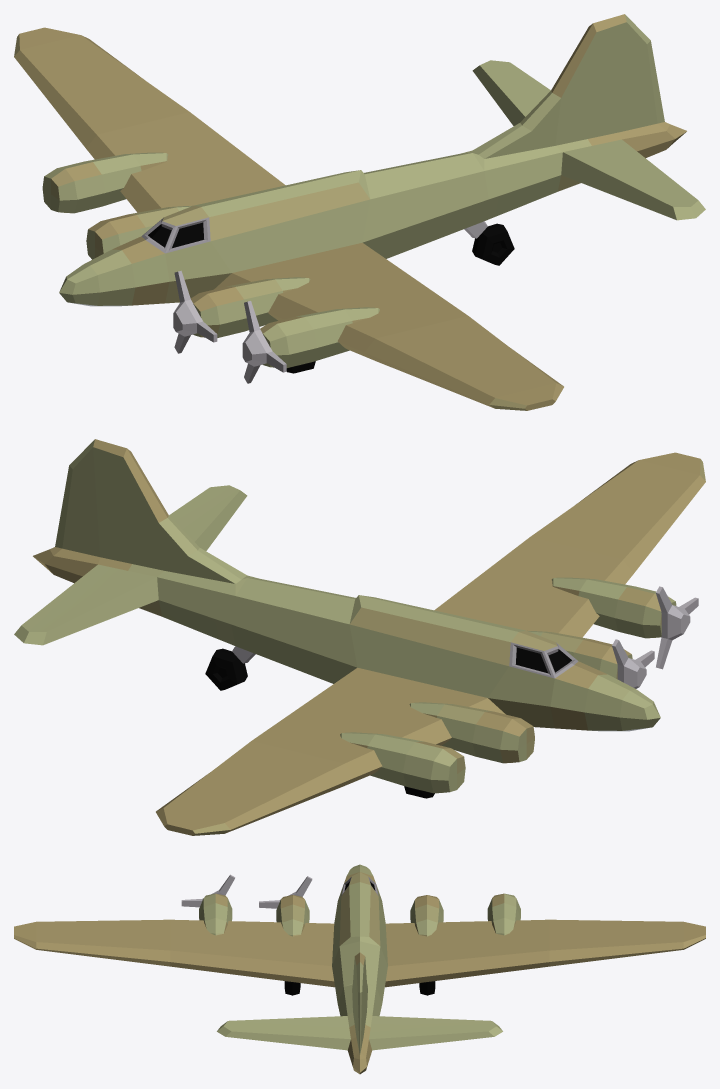
3 renders of one model, top to bottom at view 1: azimuth 30°, elevation 25°; view 2: azimuth 150°, elevation 25°; view 3: azimuth 270°, elevation 25°, orthographic. The views are drawn at different scales.
Visible parts, largest first — view 1: WW2BomberBody, WW2BomberFarLeftRotor, WW2BomberInnerLeftRotor, WW2BomberBackWheels; view 2: WW2BomberBody, WW2BomberFarLeftRotor, WW2BomberBackWheels, WW2BomberInnerLeftRotor; view 3: WW2BomberBody, WW2BomberFrontWheels, WW2BomberFarLeftRotor, WW2BomberInnerLeftRotor.
Boxes of the visible parts, x1,y1,x2,y2 form: WW2BomberBody: [14, 14, 705, 410]; WW2BomberFarLeftRotor: [242, 301, 286, 383]; WW2BomberInnerLeftRotor: [173, 270, 217, 353]; WW2BomberBackWheels: [464, 221, 514, 265]; WW2BomberBody: [14, 439, 705, 835]; WW2BomberFarLeftRotor: [656, 586, 698, 669]; WW2BomberBackWheels: [205, 646, 255, 690]; WW2BomberInnerLeftRotor: [612, 639, 654, 688]; WW2BomberBody: [14, 864, 705, 1074]; WW2BomberFrontWheels: [284, 981, 435, 995]; WW2BomberFarLeftRotor: [181, 874, 235, 907]; WW2BomberInnerLeftRotor: [259, 876, 312, 908].
Size of the model in its own units: 1.69 by 0.5829 by 2.36.
